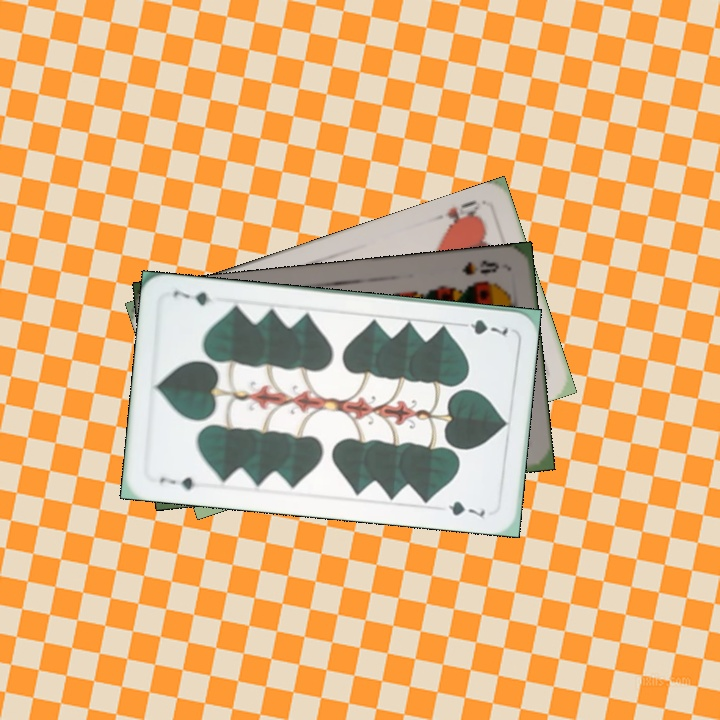G7: (454, 316, 511, 338), (155, 472, 198, 492)
HO: (428, 196, 484, 232)
S8: (458, 256, 501, 278)
